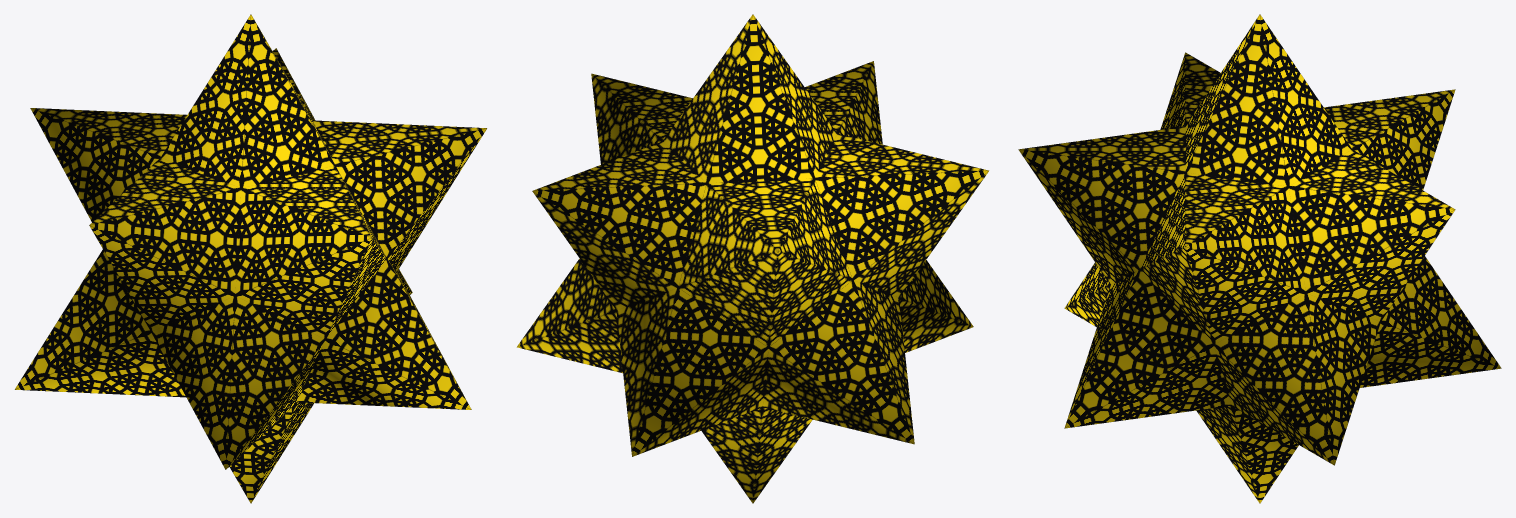
File: small-stellated-dodecahedron.gltf
3 views of the same model, side by side, from view 1: azimuth 30°, elevation 25°; view 2: azimuth 150°, elevation 25°; view 3: azimuth 270°, elevation 25° (orthographic).
Parts seen in each view (by area): view 1: Mesh; view 2: Mesh; view 3: Mesh.
Part boxes in pixels (box(x1,y1,x2,y2)): Mesh: box(15, 14, 486, 503); Mesh: box(517, 14, 988, 503); Mesh: box(1018, 14, 1501, 503).
Bounding box in the file's own units: 3.24 × 3.8 × 3.4.
Materials: 1 (1 with a texture image).
